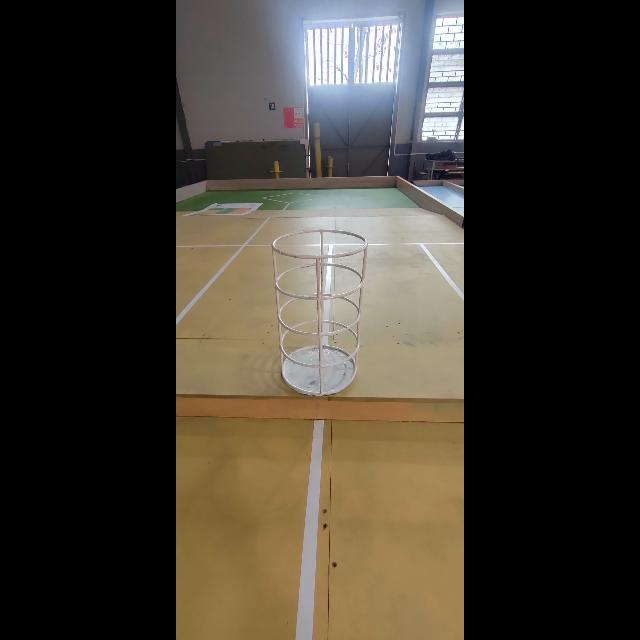S: (270, 228, 372, 396)
